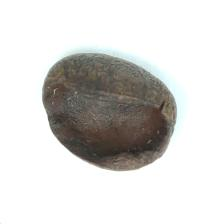NG: (44, 79, 172, 165)
